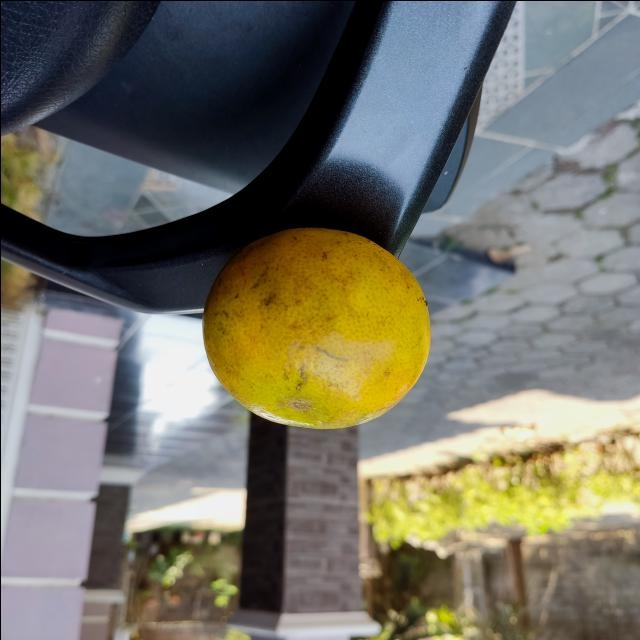agrume: (199, 228, 432, 432)
